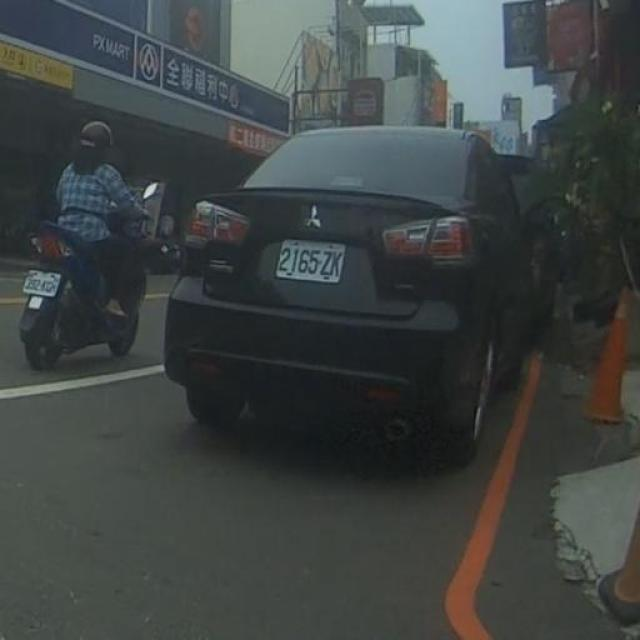illegalparking: (165, 125, 536, 462)
